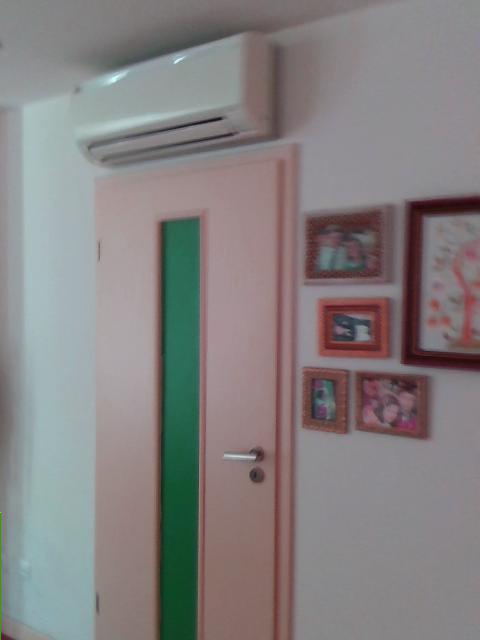closed_door: (90, 140, 297, 638)
